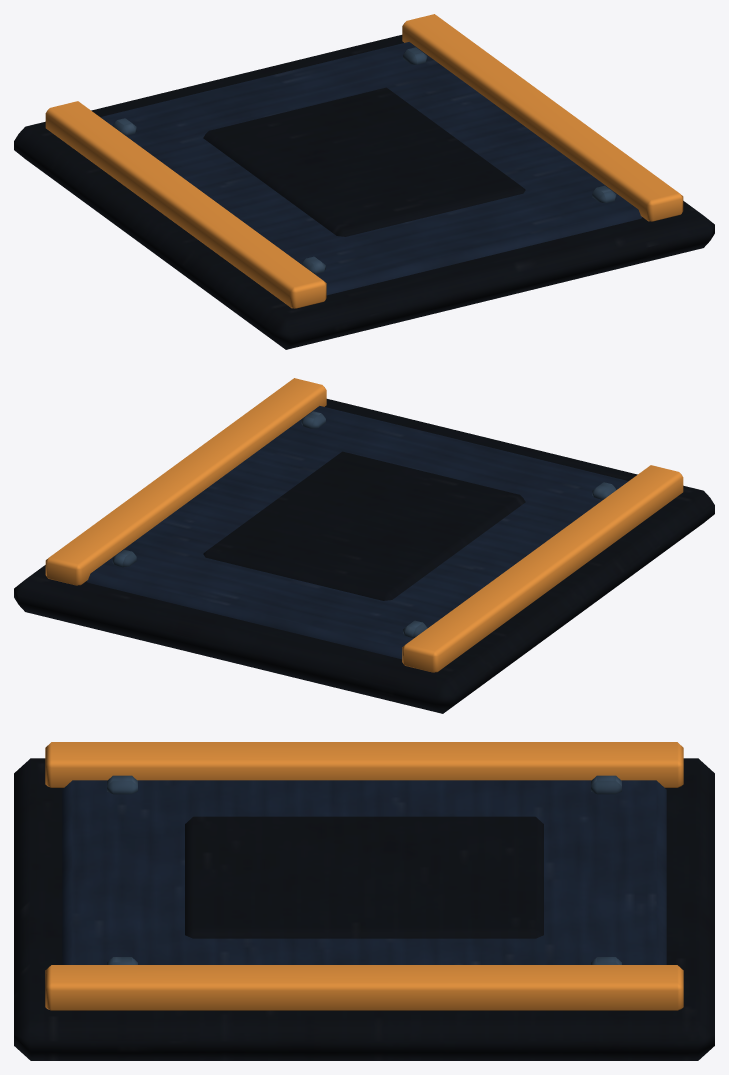
Rendered from drill_trap.glb.
The picture shows the model from 3 angles, top to bottom: view 1: azimuth 30°, elevation 25°; view 2: azimuth 150°, elevation 25°; view 3: azimuth 270°, elevation 25°; orthographic projection. The views are drawn at different scales.
Parts seen in each view (by area): view 1: drill_trap - Recessed iron, drill_trap - Blue steel, drill_trap - Safety enamel, drill_trap - Brushed gunmetal; view 2: drill_trap - Recessed iron, drill_trap - Blue steel, drill_trap - Safety enamel, drill_trap - Brushed gunmetal; view 3: drill_trap - Recessed iron, drill_trap - Blue steel, drill_trap - Safety enamel, drill_trap - Brushed gunmetal.
Boxes of the visible parts, left/top/right/bottom form: drill_trap - Recessed iron: left=14, top=35, right=714, bottom=349; drill_trap - Blue steel: left=100, top=42, right=641, bottom=295; drill_trap - Safety enamel: left=45, top=14, right=683, bottom=308; drill_trap - Brushed gunmetal: left=112, top=47, right=616, bottom=273; drill_trap - Recessed iron: left=14, top=399, right=714, bottom=713; drill_trap - Blue steel: left=87, top=406, right=628, bottom=659; drill_trap - Safety enamel: left=45, top=378, right=683, bottom=672; drill_trap - Brushed gunmetal: left=112, top=411, right=616, bottom=637; drill_trap - Recessed iron: left=14, top=758, right=714, bottom=1060; drill_trap - Blue steel: left=62, top=780, right=666, bottom=964; drill_trap - Safety enamel: left=45, top=742, right=683, bottom=1010; drill_trap - Brushed gunmetal: left=107, top=775, right=621, bottom=964.
Size of the model in its own units: 1.56 by 0.18 by 1.68.
Materials: 4 (3 with a texture image).
